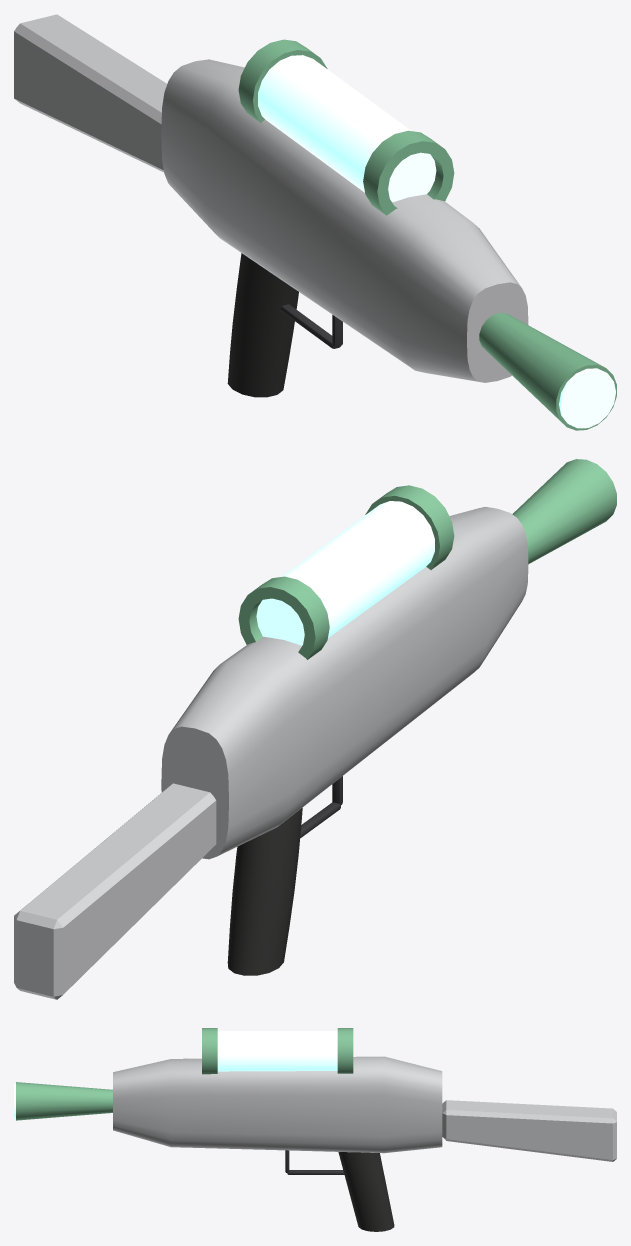
Rendered from reverser.glb.
The picture shows the model from 3 angles, top to bottom: view 1: azimuth 30°, elevation 25°; view 2: azimuth 150°, elevation 25°; view 3: azimuth 270°, elevation 25°; orthographic projection. The views are drawn at different scales.
Visible parts, largest first — view 1: Body; view 2: Body; view 3: Body.
Part boxes in pixels (bbox=[...]): Body: bbox=[14, 14, 616, 430]; Body: bbox=[14, 459, 616, 999]; Body: bbox=[14, 1028, 616, 1231].
Size of the model in its own units: 0.056 by 0.2223 by 0.622.
